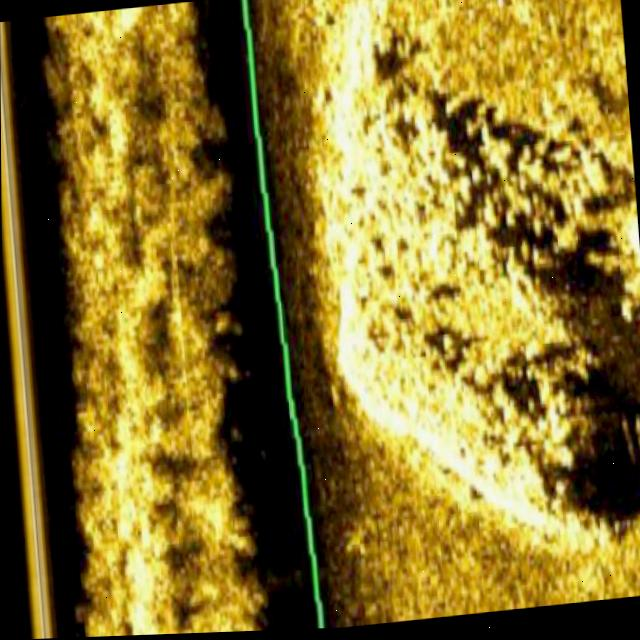bedrock group: (305, 0, 640, 562)
